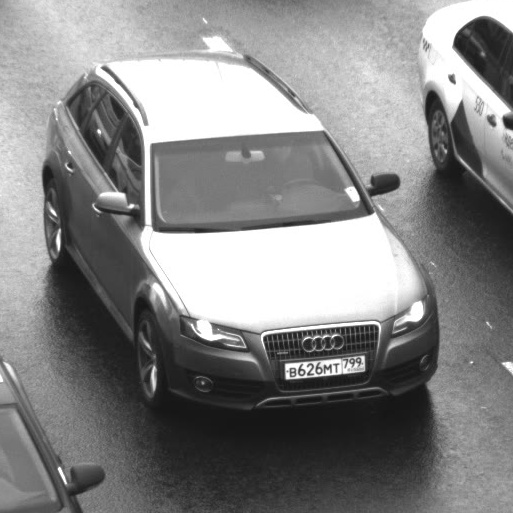plate: (272, 343, 375, 386)
